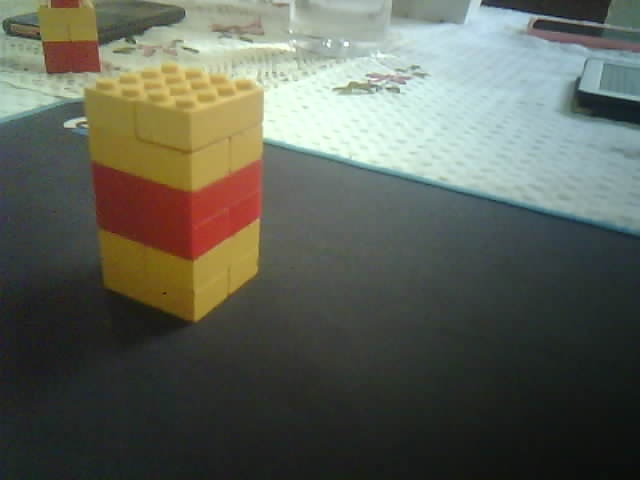lego: (81, 62, 266, 325), (36, 1, 101, 73)
